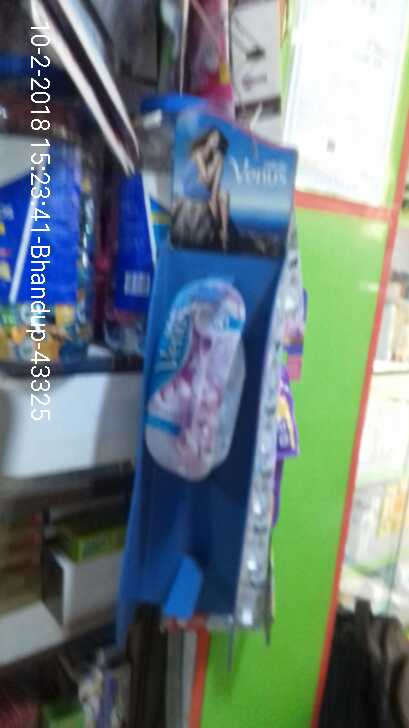beauty: (144, 263, 252, 488)
